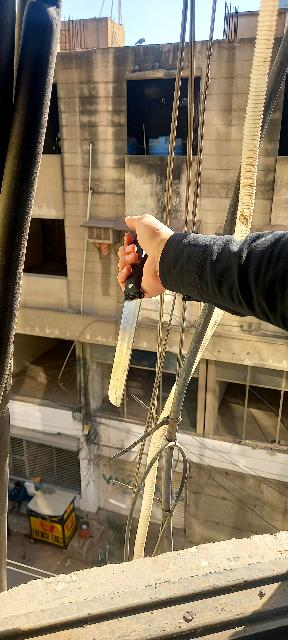long knife: (97, 209, 164, 405)
